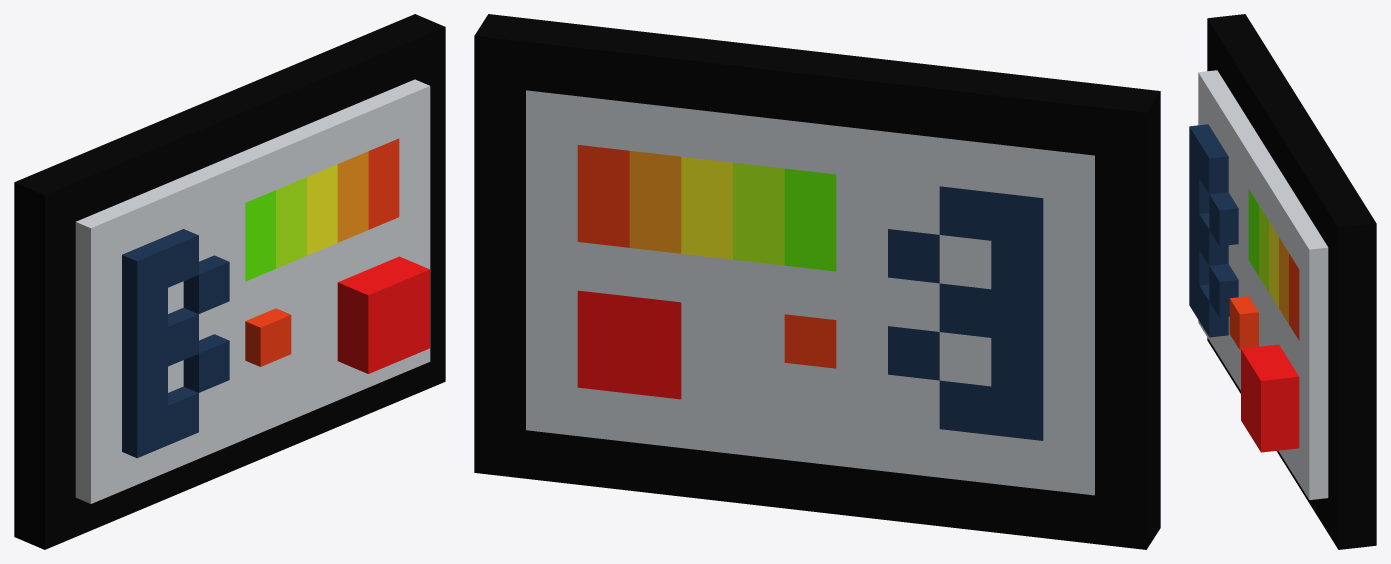
Rendered from Timed Spike Bombmetacharging4.glb.
3 renders of one model, left to right at view 1: azimuth 30°, elevation 25°; view 2: azimuth 150°, elevation 25°; view 3: azimuth 270°, elevation 25°, orthographic. The views are drawn at different scales.
Visible parts, largest first — view 1: generated(Clone).001; view 2: generated(Clone).001; view 3: generated(Clone).001.
Part boxes in pixels (left/top/right/bottom): generated(Clone).001: left=14, top=14, right=445, bottom=549; generated(Clone).001: left=474, top=14, right=1160, bottom=549; generated(Clone).001: left=1189, top=14, right=1376, bottom=549.
Bounding box in the file's own units: 10.26 × 7.2 × 3.8.
Materials: 1 (1 with a texture image).
